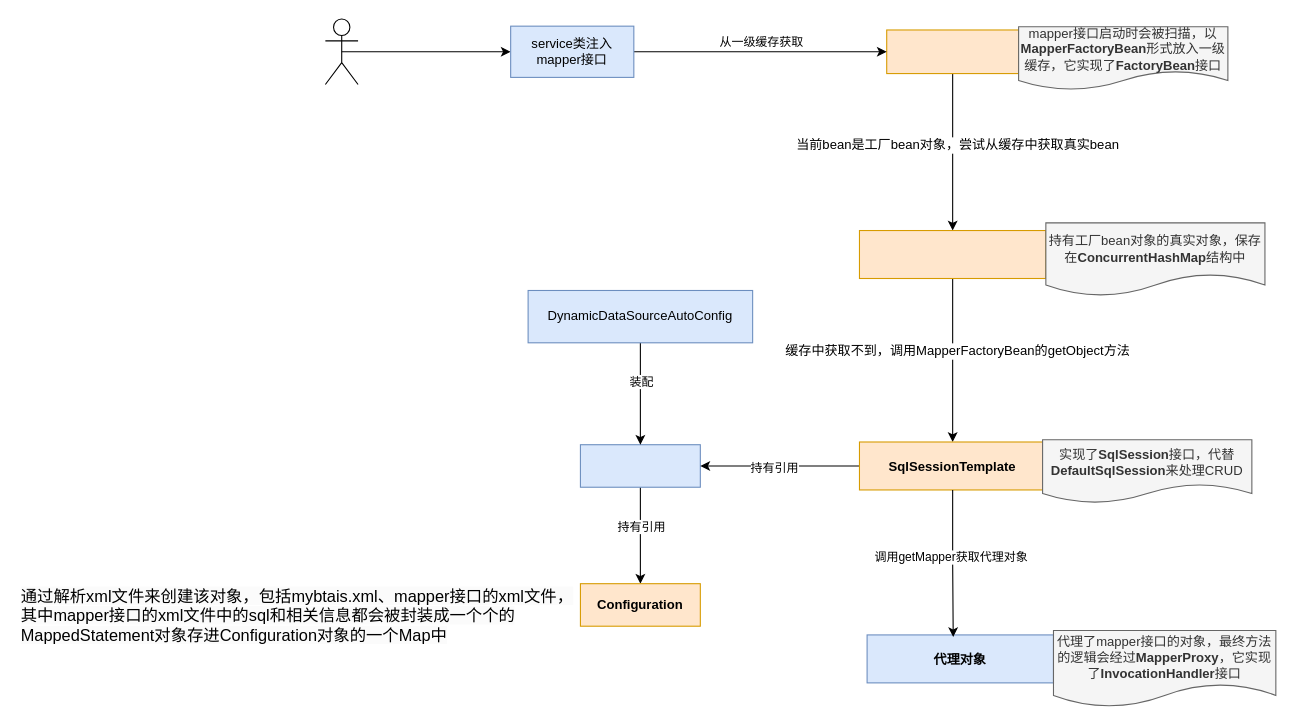
Some shapes in this 1295 by 726 pixel diagram are drawn without their labels. Here are the shapes that lost their labels. From the top down, the box of each, then its label:
(324, 18, 358, 84): Actor
(886, 29, 1019, 74): MapperFactoryBean
(858, 229, 1046, 278): FactoryBeanRegistrySupport
(579, 444, 700, 487): SqlSessionFactory
